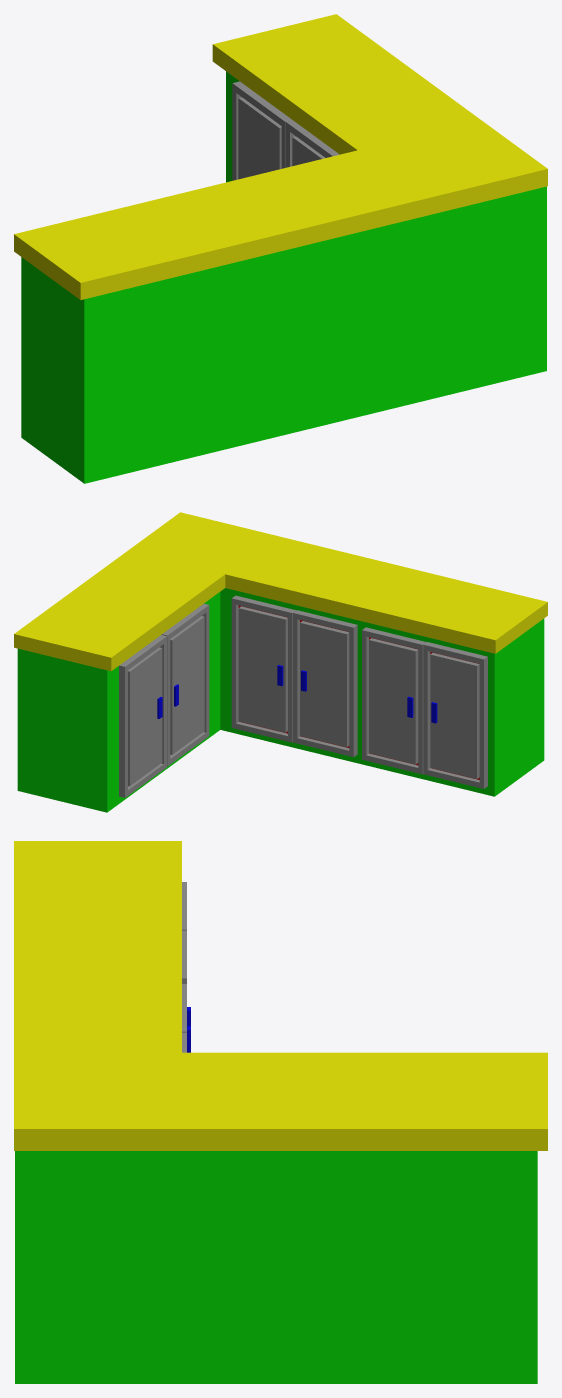
The model's file is Big_Armoire5.fbx.
The picture shows the model from 3 angles, top to bottom: view 1: azimuth 30°, elevation 25°; view 2: azimuth 150°, elevation 25°; view 3: azimuth 270°, elevation 25°; orthographic projection. The views are drawn at different scales.
Parts seen in each view (by area): view 1: pCube186; view 2: pCube186; view 3: pCube186.
Part boxes in pixels (x1,y1,x2,y2): pCube186: (14, 14, 547, 483); pCube186: (14, 512, 547, 812); pCube186: (14, 841, 547, 1383).
Bounding box in the file's own units: 350 × 145 × 274.
